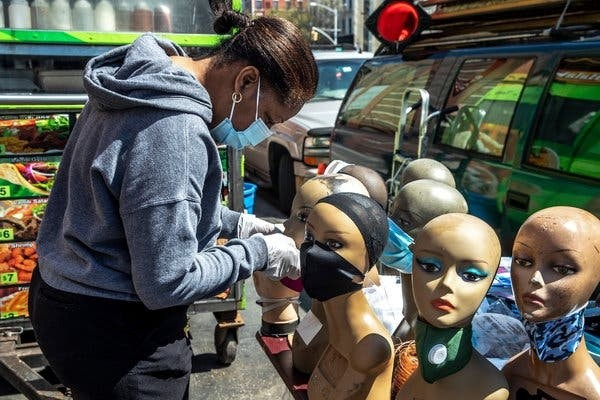face_with_mask: (209, 13, 318, 150)
